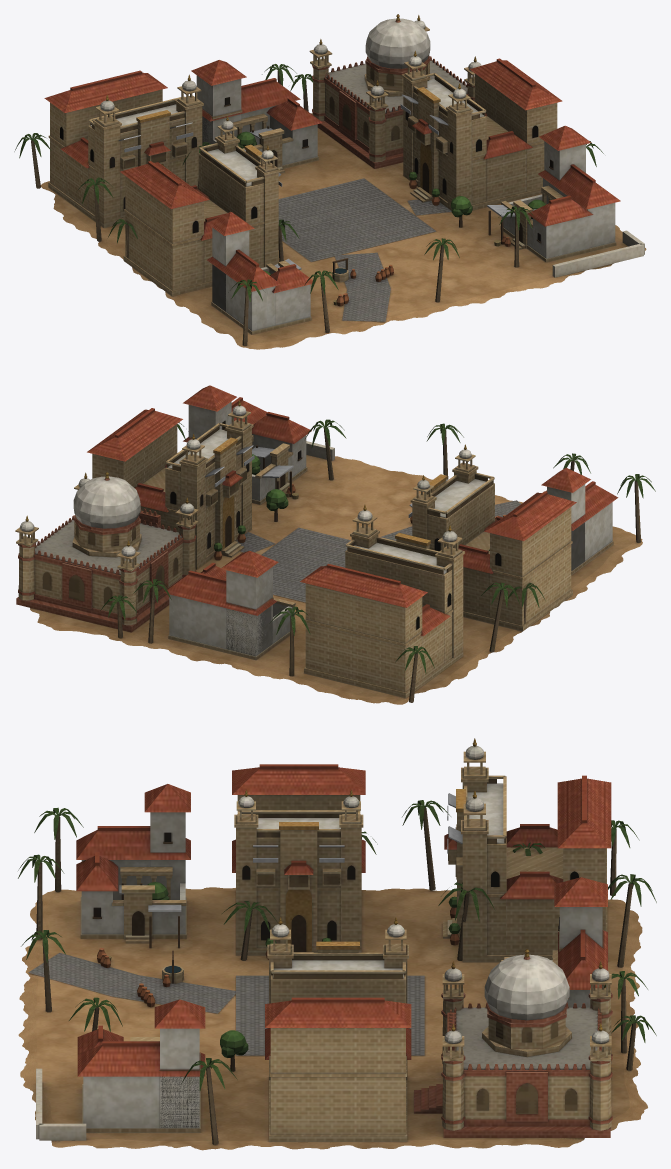
Rendered from kingdoms-town-small-b-indic.glb.
The picture shows the model from 3 angles, top to bottom: view 1: azimuth 30°, elevation 25°; view 2: azimuth 150°, elevation 25°; view 3: azimuth 270°, elevation 25°; orthographic projection. The views are drawn at different scales.
Parts seen in each view (by area): view 1: LOD0; view 2: LOD0; view 3: LOD0.
Part boxes in pixels (x1,y1,x2,y2): LOD0: (14, 14, 646, 349); LOD0: (15, 385, 655, 704); LOD0: (18, 738, 656, 1150).
Size of what is drawn, in the model's own units: 4.2 by 1.2 by 4.09.
3 materials, 3 textured.
